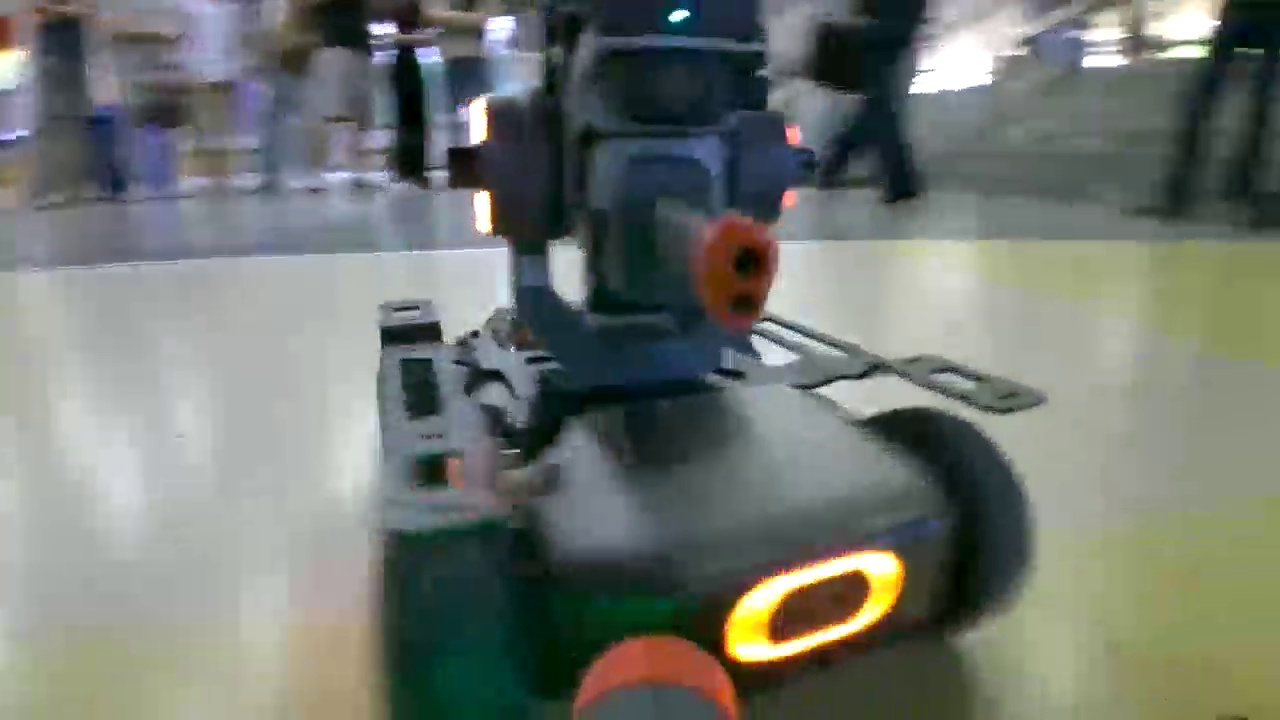robot: (375, 1, 1054, 720)
